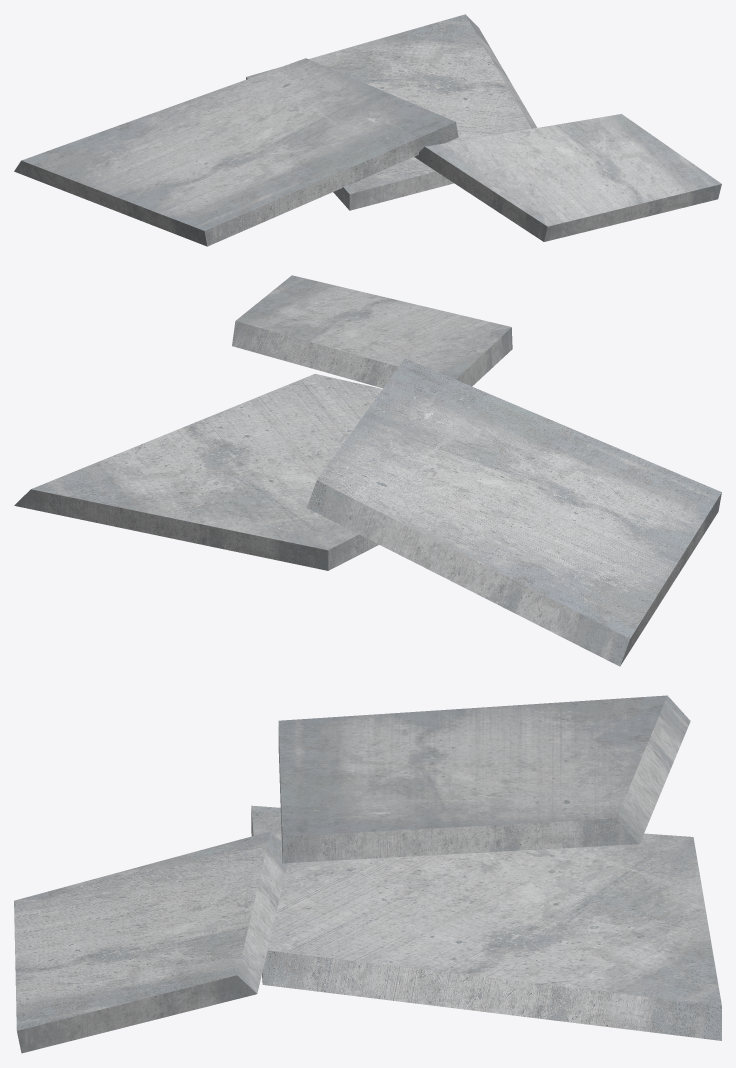
Rendered from Ceiling Tile_Various.FBX.
The picture shows the model from 3 angles, top to bottom: view 1: azimuth 30°, elevation 25°; view 2: azimuth 150°, elevation 25°; view 3: azimuth 270°, elevation 25°; orthographic projection. The views are drawn at different scales.
Visible parts, largest first — view 1: Ceiling Tile_Various; view 2: Ceiling Tile_Various; view 3: Ceiling Tile_Various.
Boxes of the visible parts, x1=… form: Ceiling Tile_Various: x1=14, y1=14, x2=721, y2=246; Ceiling Tile_Various: x1=14, y1=275, x2=721, y2=666; Ceiling Tile_Various: x1=14, y1=695, x2=721, y2=1053.
Size of the model in its own units: 0.6388 by 0.0923 by 0.5326.
